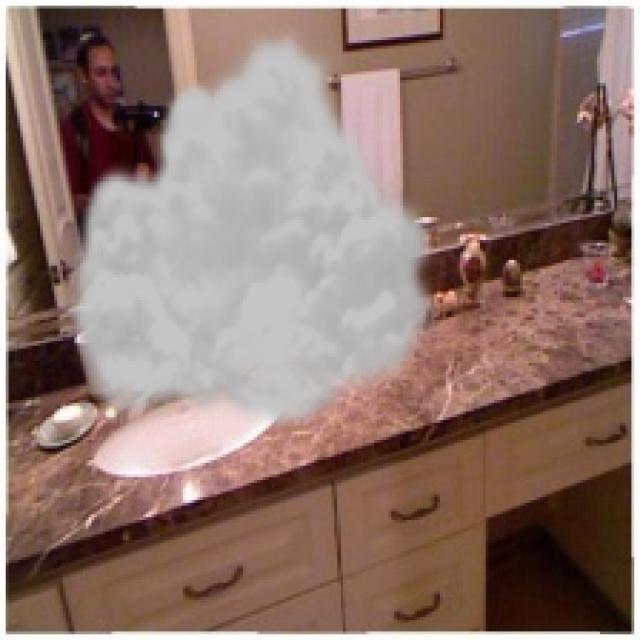smoke: (63, 23, 446, 431)
